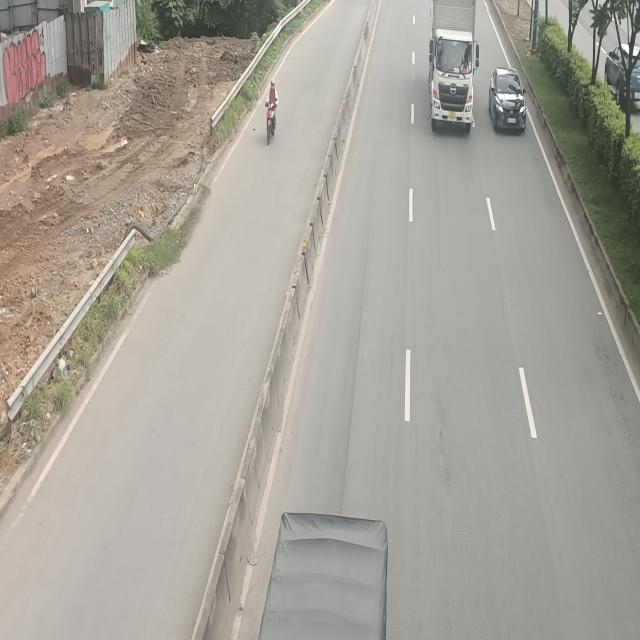car: (488, 65, 526, 133)
truck: (427, 2, 479, 136)
